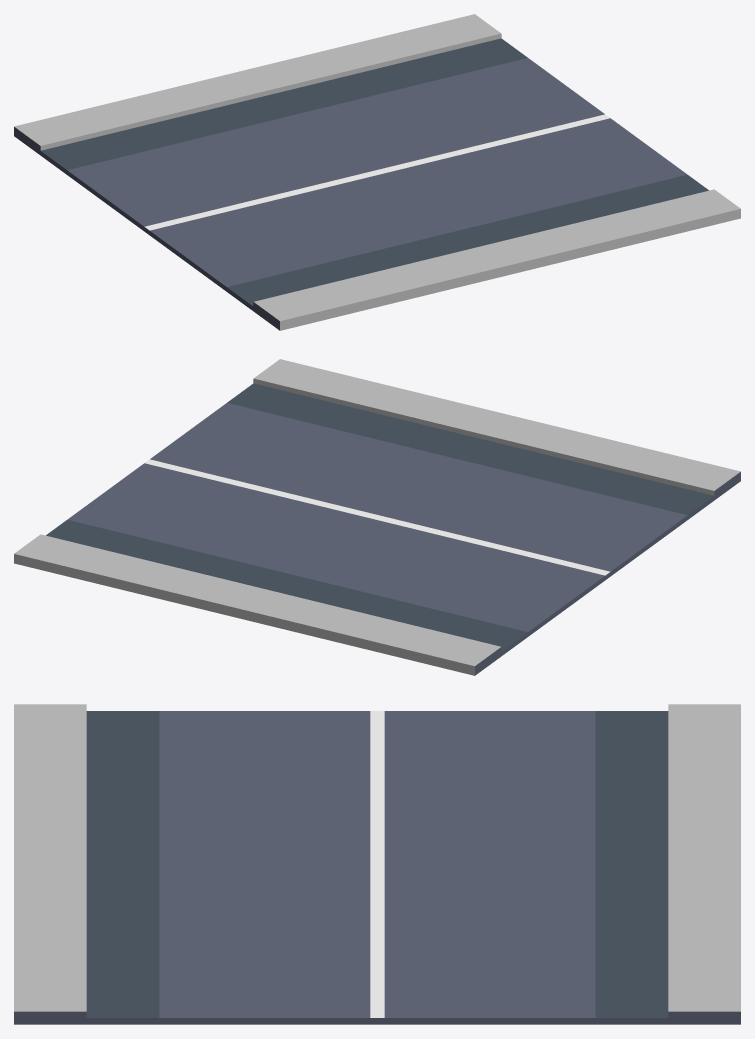
The model's file is SM_Road_Straight.fbx.
The picture shows the model from 3 angles, top to bottom: view 1: azimuth 30°, elevation 25°; view 2: azimuth 150°, elevation 25°; view 3: azimuth 270°, elevation 25°; orthographic projection. The views are drawn at different scales.
Parts seen in each view (by area): view 1: SM_Road_Straight; view 2: SM_Road_Straight; view 3: SM_Road_Straight.
Boxes of the visible parts, bbox=[...] form: SM_Road_Straight: bbox=[14, 14, 740, 330]; SM_Road_Straight: bbox=[14, 359, 740, 675]; SM_Road_Straight: bbox=[14, 704, 740, 1024].
Bounding box in the file's own units: 1000 × 20 × 1000.
